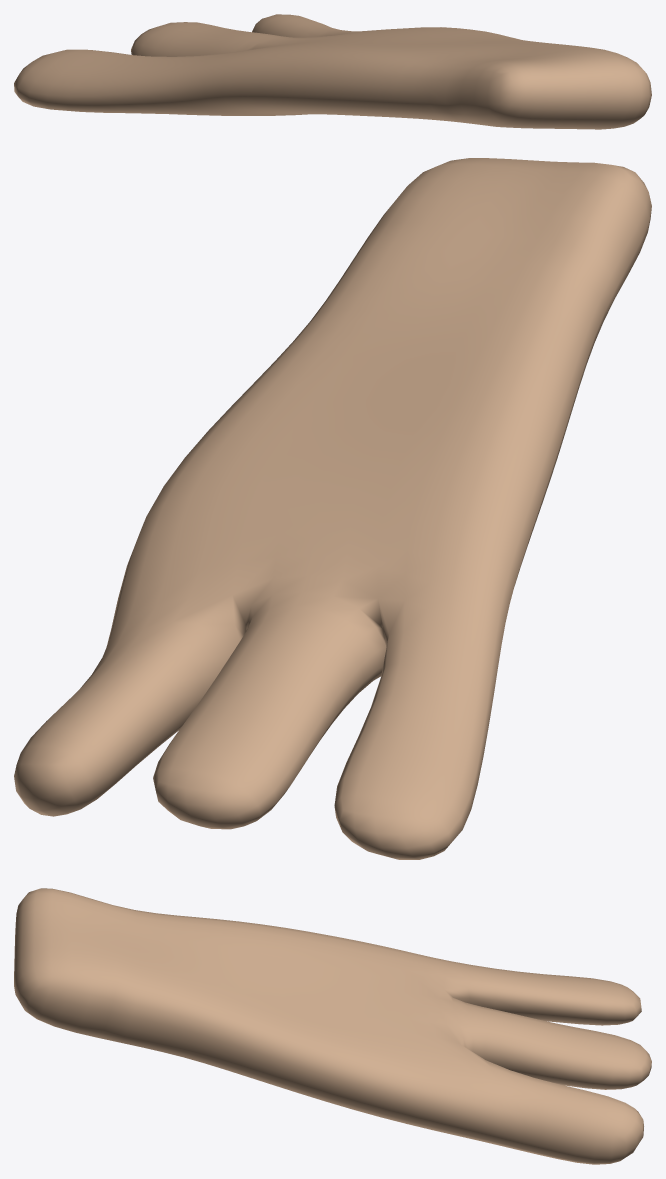
3 renders of one model, top to bottom at view 1: azimuth 30°, elevation 25°; view 2: azimuth 150°, elevation 25°; view 3: azimuth 270°, elevation 25°, orthographic. The views are drawn at different scales.
Parts seen in each view (by area): view 1: 右侧指伸肌与示指伸肌腱鞘; view 2: 右侧指伸肌与示指伸肌腱鞘; view 3: 右侧指伸肌与示指伸肌腱鞘.
Boxes of the visible parts, left/top/right/bottom form: 右侧指伸肌与示指伸肌腱鞘: left=14, top=14, right=651, bottom=129; 右侧指伸肌与示指伸肌腱鞘: left=14, top=158, right=651, bottom=859; 右侧指伸肌与示指伸肌腱鞘: left=14, top=888, right=651, bottom=1164.
Size of the model in its own units: 0.0402 by 0.0284 by 0.0714.
